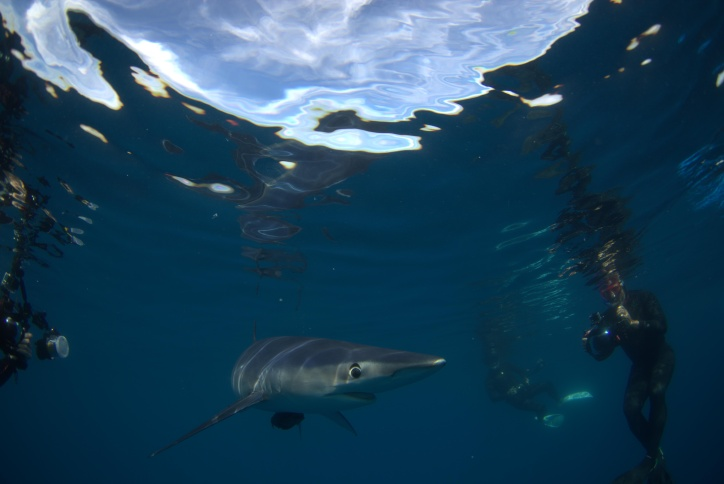Azul: (111, 305, 491, 475)
